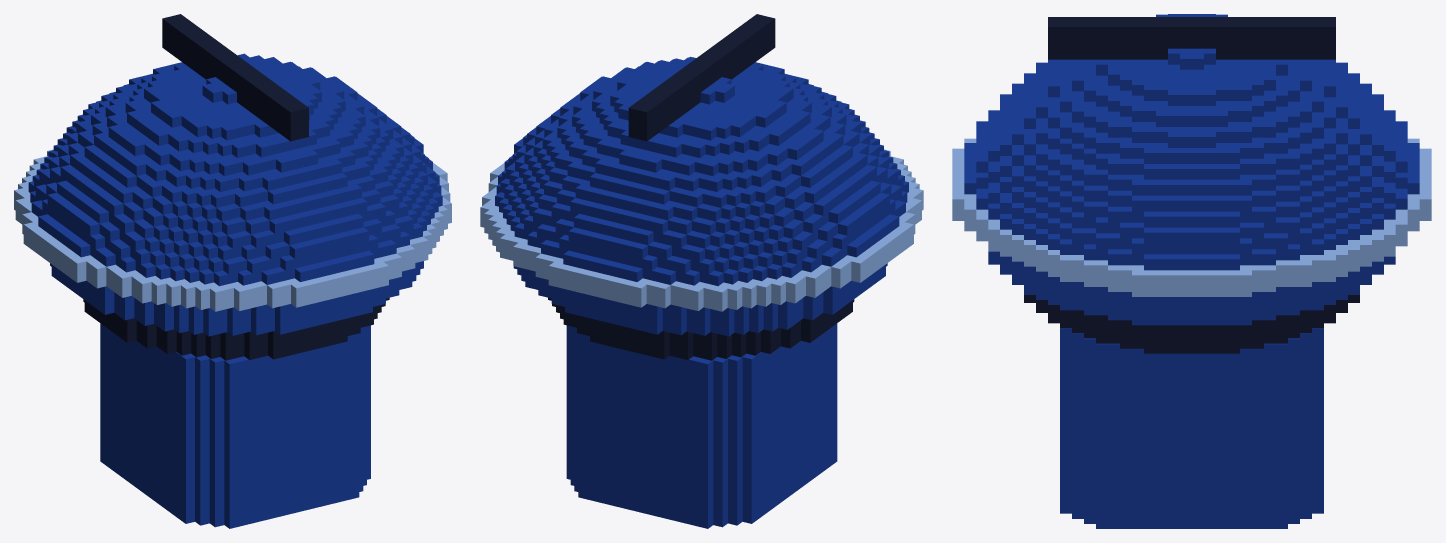
File: armor_heavy_worn_upper.glb
The picture shows the model from 3 angles, left to right: view 1: azimuth 30°, elevation 25°; view 2: azimuth 150°, elevation 25°; view 3: azimuth 270°, elevation 25°; orthographic projection. The views are drawn at different scales.
Visible parts, largest first — view 1: armor_heavy_worn_upper:compound; view 2: armor_heavy_worn_upper:compound; view 3: armor_heavy_worn_upper:compound.
Part boxes in pixels (bbox=[...]): armor_heavy_worn_upper:compound: bbox=[14, 14, 451, 528]; armor_heavy_worn_upper:compound: bbox=[480, 14, 923, 528]; armor_heavy_worn_upper:compound: bbox=[952, 14, 1431, 528].
Size of the model in its own units: 0.4 by 0.42 by 0.4.
